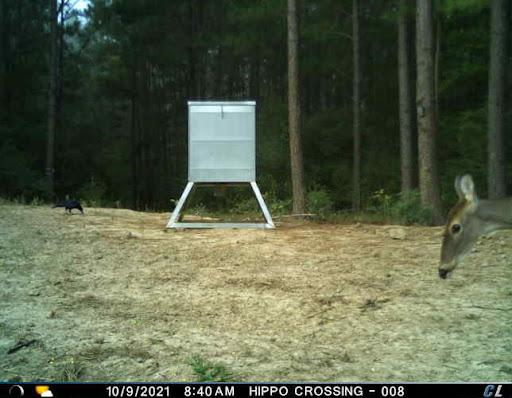Deer: (429, 165, 512, 288)
